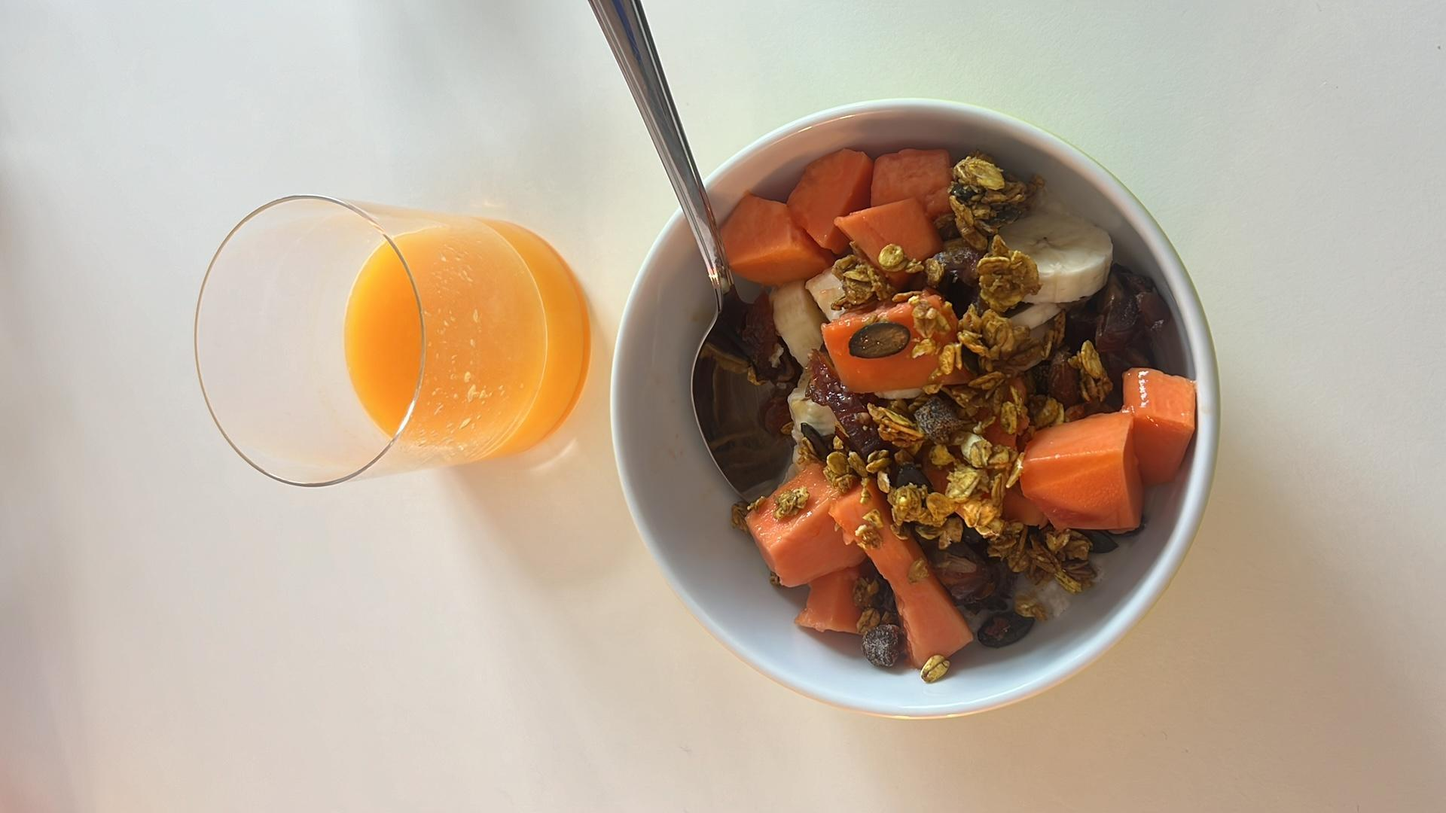banana: (977, 204, 1115, 304), (767, 279, 822, 368), (791, 387, 840, 438), (809, 265, 851, 317)
